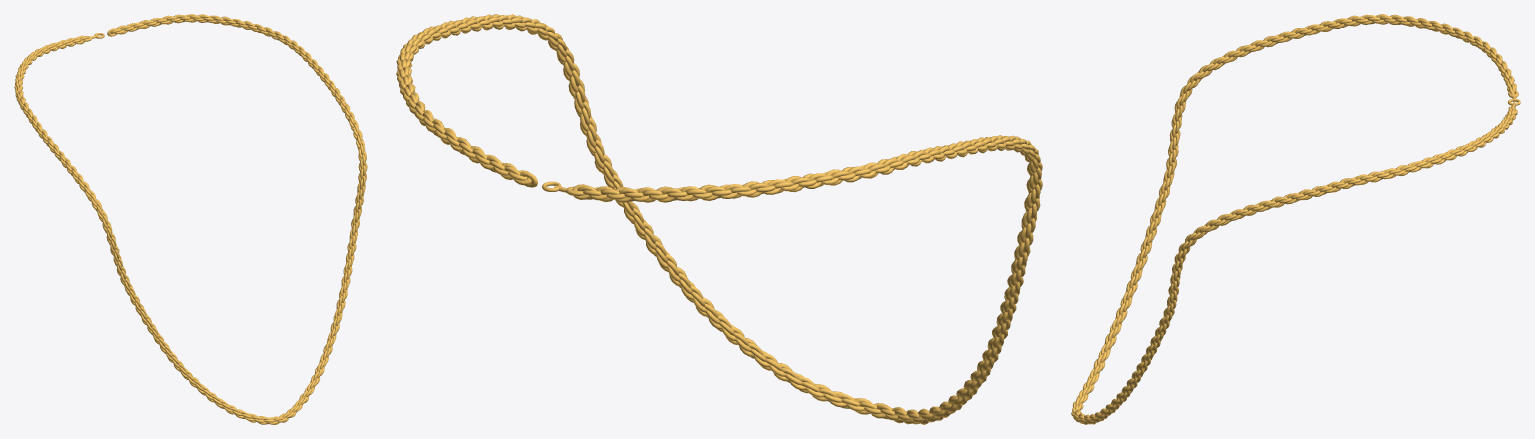
Rendered from chain-rope-gold.glb.
3 renders of one model, left to right at view 1: azimuth 30°, elevation 25°; view 2: azimuth 150°, elevation 25°; view 3: azimuth 270°, elevation 25°, orthographic. The views are drawn at different scales.
Parts seen in each view (by area): view 1: chain-rope-gold_gold22k; view 2: chain-rope-gold_gold22k; view 3: chain-rope-gold_gold22k.
Part boxes in pixels (bbox=[...]): chain-rope-gold_gold22k: bbox=[14, 14, 367, 424]; chain-rope-gold_gold22k: bbox=[396, 14, 1042, 424]; chain-rope-gold_gold22k: bbox=[1071, 14, 1520, 424].
Bounding box in the file's own units: 12.32 × 11.26 × 13.95.
